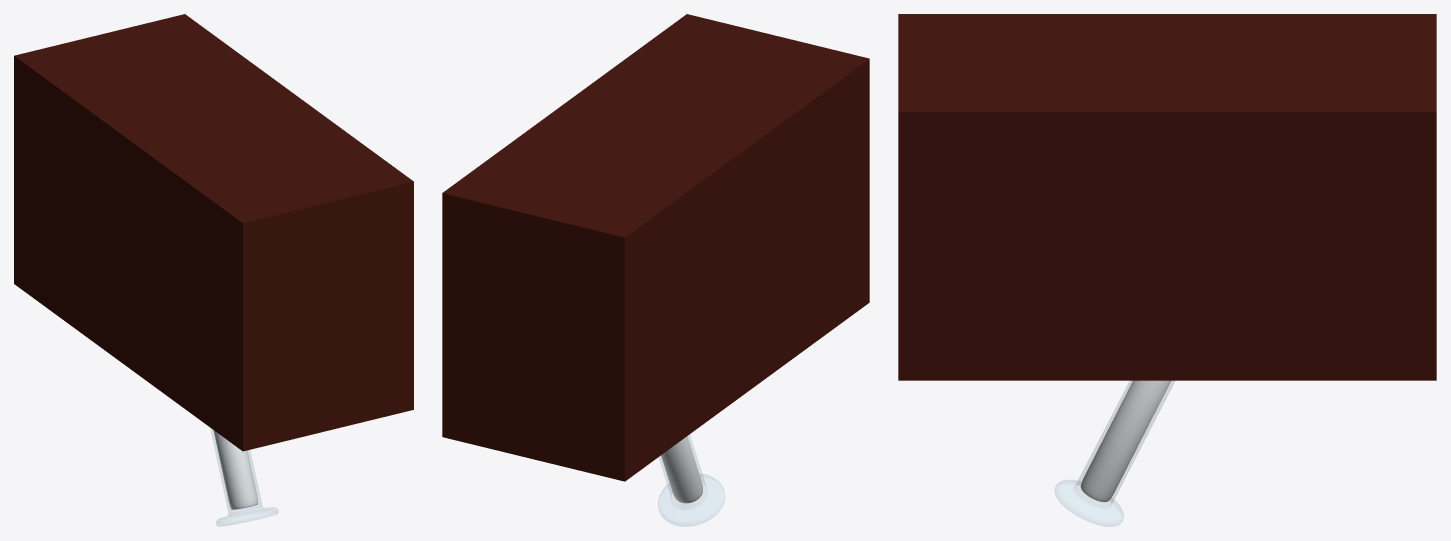
File: cylindarAnimation.fbx
3 renders of one model, left to right at view 1: azimuth 30°, elevation 25°; view 2: azimuth 150°, elevation 25°; view 3: azimuth 270°, elevation 25°, orthographic. The views are drawn at different scales.
Visible parts, largest first — view 1: Cube bool, Flask Liquid, Flask anim; view 2: Cube bool, Flask anim, Flask Liquid; view 3: Cube bool, Flask Liquid, Flask anim.
Part boxes in pixels (x1=…): Cube bool: x1=14, y1=14, x2=413, y2=451; Flask Liquid: x1=213, y1=430, x2=257, y2=509; Flask anim: x1=210, y1=428, x2=278, y2=526; Cube bool: x1=442, y1=14, x2=869, y2=481; Flask anim: x1=658, y1=435, x2=724, y2=526; Flask Liquid: x1=661, y1=436, x2=702, y2=503; Cube bool: x1=898, y1=14, x2=1436, y2=380; Flask Liquid: x1=1080, y1=380, x2=1170, y2=502; Flask anim: x1=1055, y1=381, x2=1174, y2=526.
Bounding box in the file's own units: 40 × 86.9 × 92.76.
